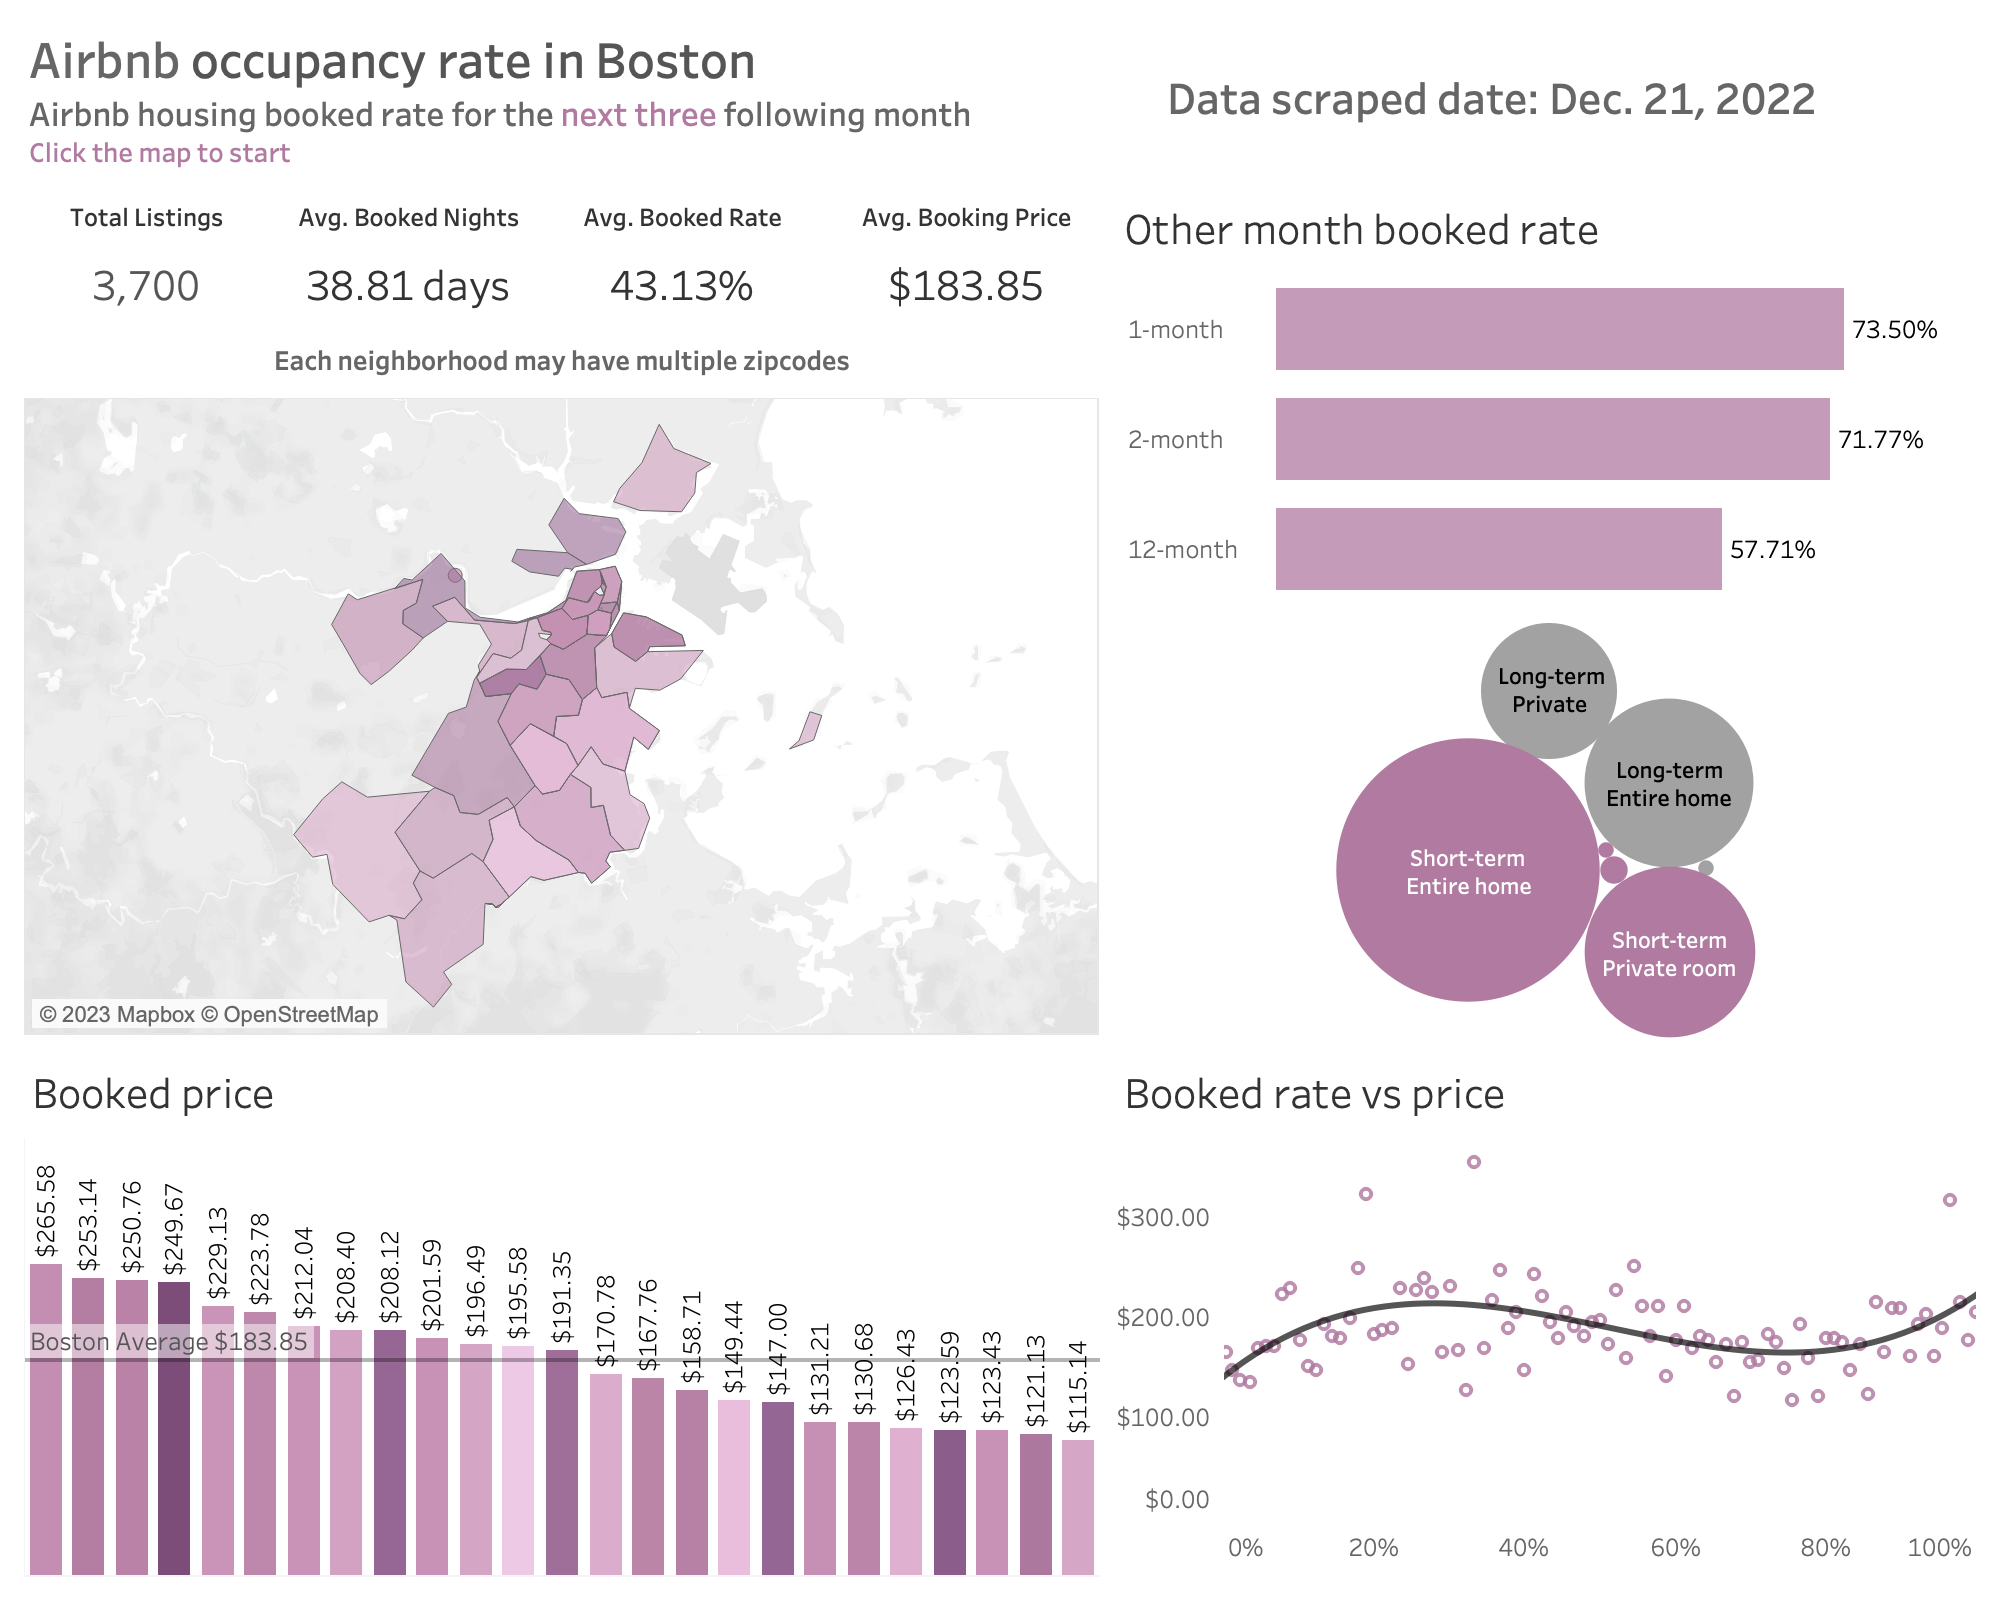

The dashboard page shown, as its layout file describes it:
{"tool":"tableau","page":{"name":"Dashboard 1","canvas":[1000,800],"ordinal":0},"visuals":[{"type":"text","box":[8,8,492,82]},{"type":"text","box":[500,8,492,82]},{"type":"worksheet","title":"Total Listings","mark":"Automatic","box":[8,90,131,74]},{"type":"worksheet","title":"Avg. Booked Rate","mark":"Automatic","box":[139,90,143,74]},{"type":"worksheet","title":"Avg. Booked Nights","mark":"Automatic","box":[282,90,131,74]},{"type":"worksheet","title":"Avg. Booking Price","mark":"Automatic","box":[413,90,141,74]},{"type":"worksheet","title":"Other month booked rate","mark":"Automatic","rows":["neighbourhood_cleansed"],"box":[554,90,438,215.8]},{"type":"text","box":[8,164,546,31.3]},{"type":"worksheet","title":"avg price in different zipcode","mark":"Automatic","box":[8,195.3,546,327.1]},{"type":"worksheet","title":"room type","mark":"Circle","box":[554,305.8,438,216.6]},{"type":"worksheet","title":"Booked price","mark":"Automatic","rows":["price"],"cols":["neighbourhood_cleansed"],"box":[8,522.4,546,269.6]},{"type":"worksheet","title":"Booked rate vs price","mark":"Line","rows":["price"],"cols":["Calculation_782289385936506882"],"box":[554,522.4,438,269.6]}]}

Visuals, with their boxes in screenshot pixels (x1, y1, x2, y2), scaled from the page's 1000x800 canvas onto the 2000x1600 screenshot:
text: 16 16 1000 180
text: 1000 16 1984 180
"Total Listings" worksheet: 16 180 278 328
"Avg. Booked Rate" worksheet: 278 180 564 328
"Avg. Booked Nights" worksheet: 564 180 826 328
"Avg. Booking Price" worksheet: 826 180 1108 328
"Other month booked rate" worksheet: 1108 180 1984 612
text: 16 328 1108 391
"avg price in different zipcode" worksheet: 16 391 1108 1045
"room type" worksheet (Circle marks): 1108 612 1984 1045
"Booked price" worksheet: 16 1045 1108 1584
"Booked rate vs price" worksheet (Line marks): 1108 1045 1984 1584
